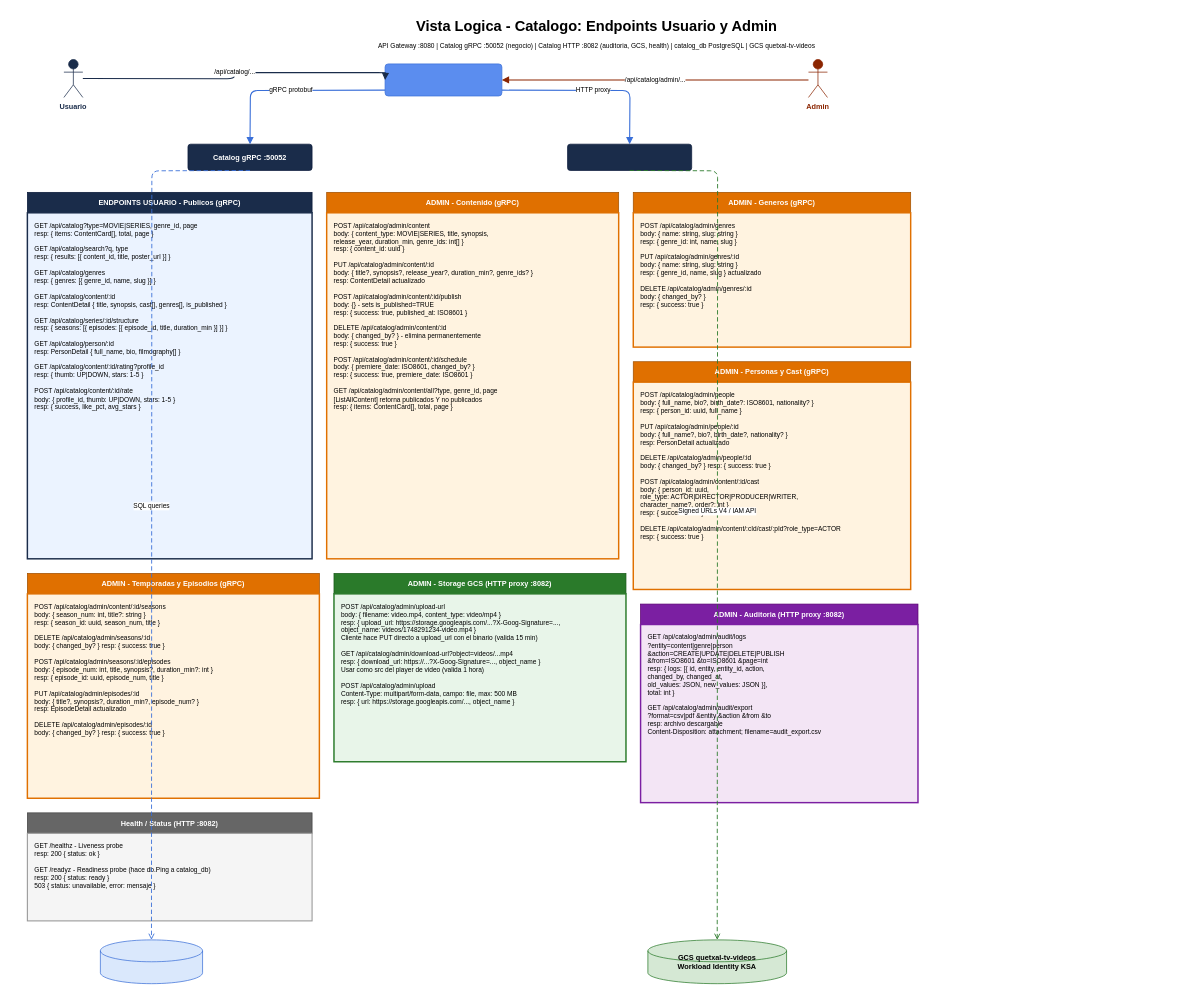
The diagram is 1193 pixels wide and 996 high, and some of its shapes have lost their labels. Each missing label, with the centre of its shape:
"API Gateway NestJS :8080" belongs at point (443, 79).
"Catalog HTTP :8082" belongs at point (629, 156).
"catalog_db PostgreSQL" belongs at point (151, 961).
